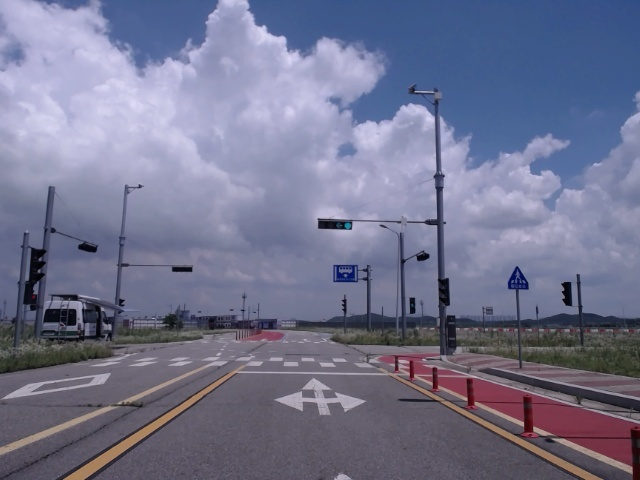all_green_4: (317, 218, 357, 229), (317, 219, 349, 230)
